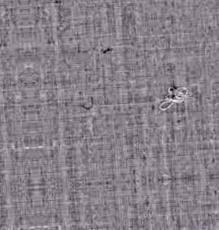snag: (154, 84, 193, 114)
